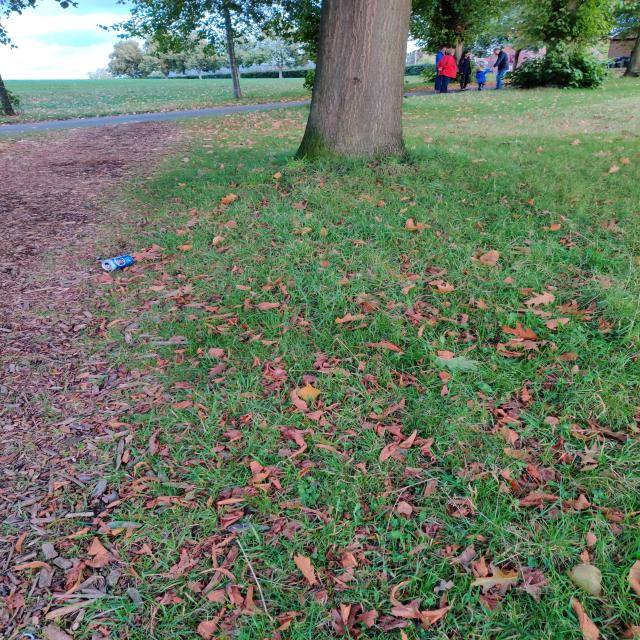litter: (100, 255, 135, 270)
